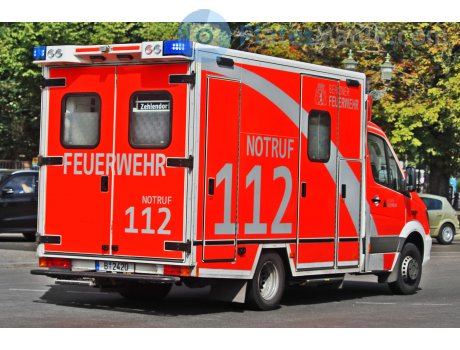License Plates: (93, 260, 133, 271)
